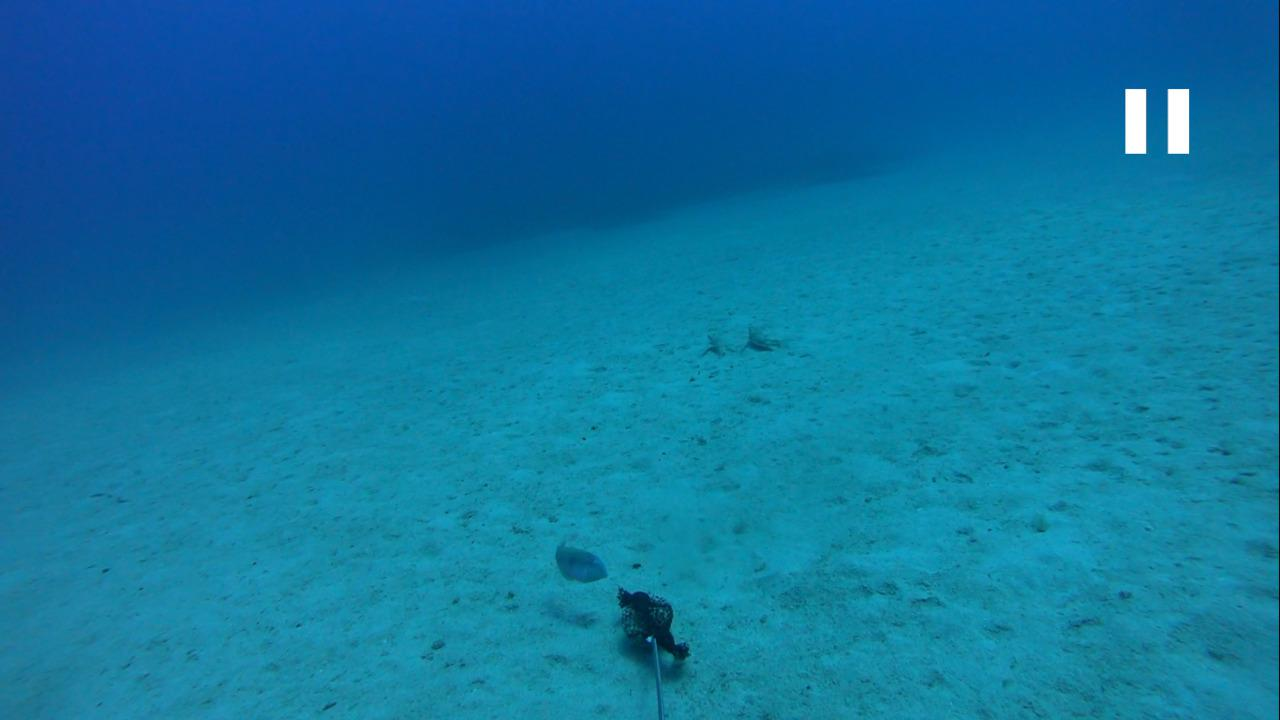dactylopterus: (731, 317, 787, 358), (686, 331, 738, 375)
raor: (547, 538, 613, 587)
